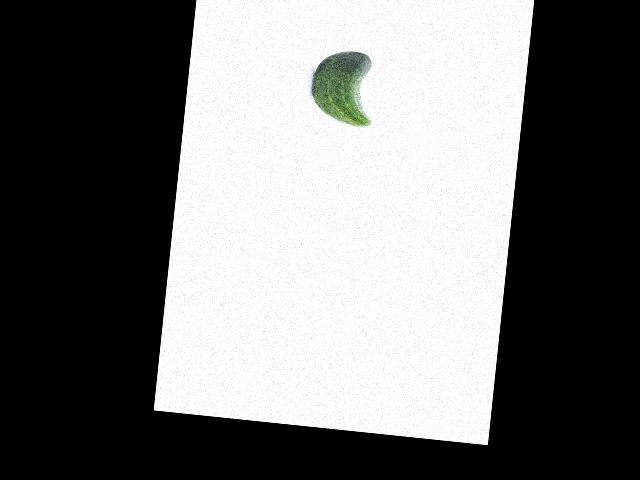cucumber: (308, 47, 378, 128)
